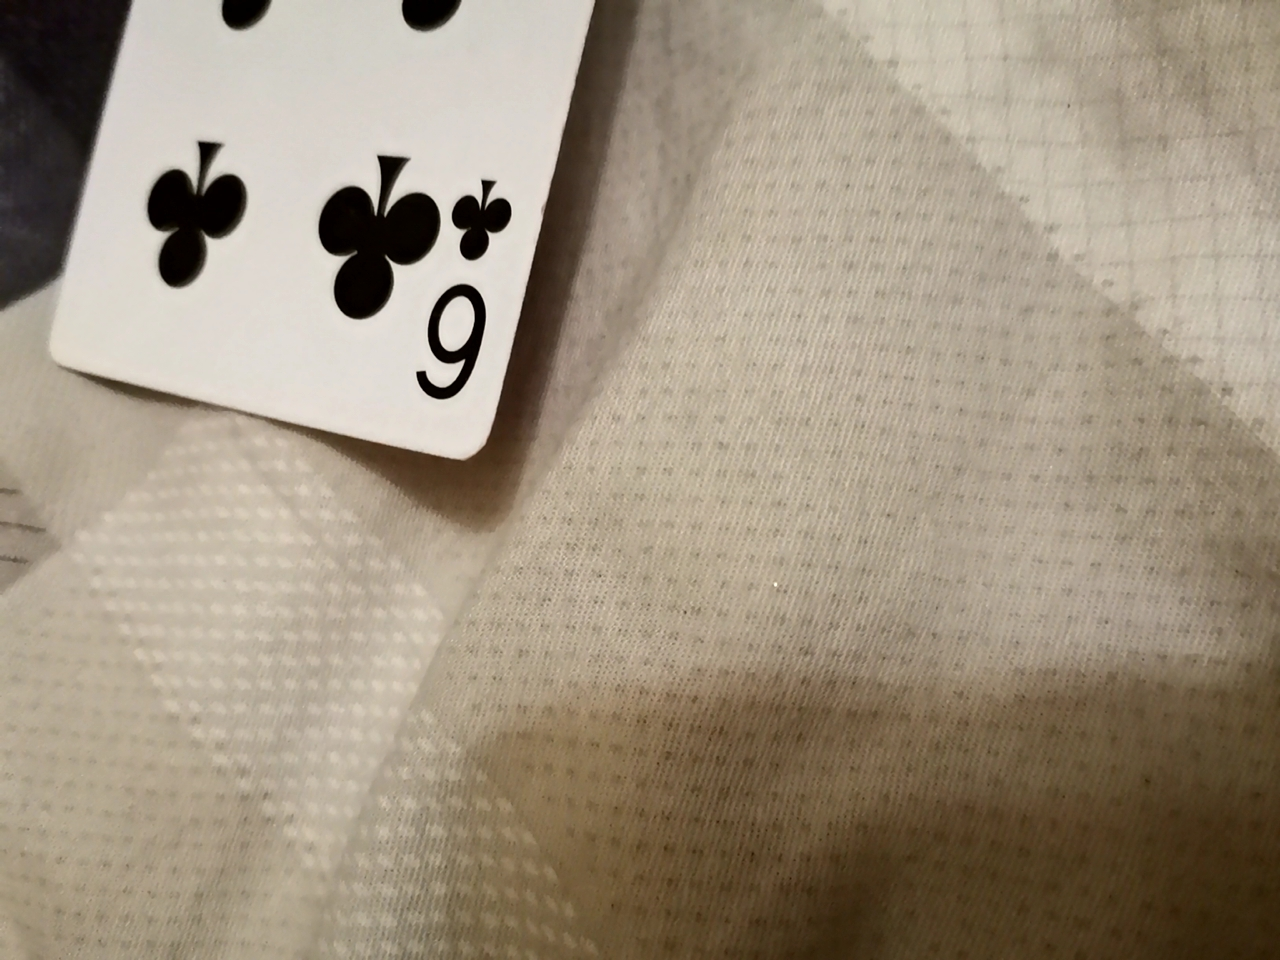mh 6: (17, 5, 660, 477)
